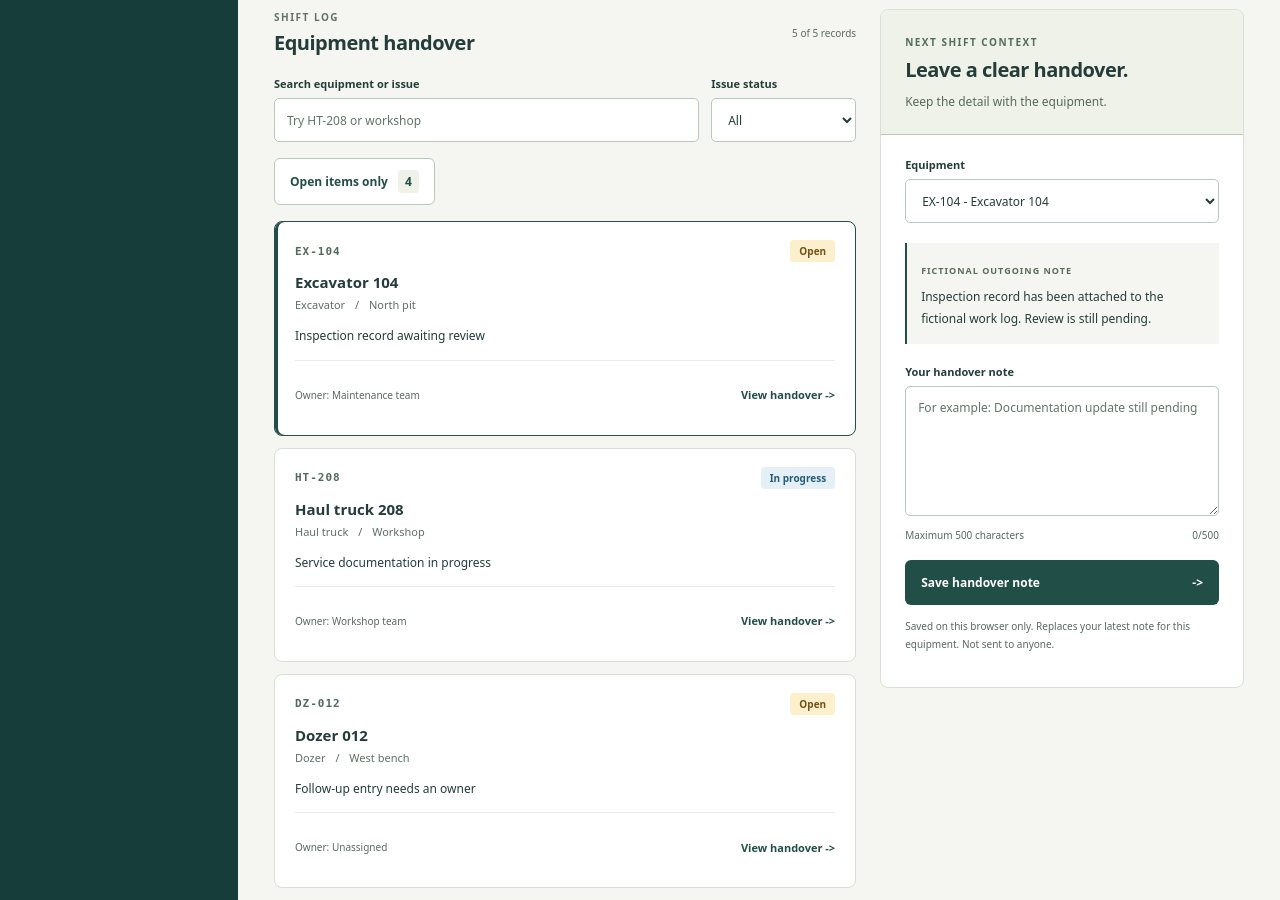
Test: handover notes › retains a draft and explicitly reports failed saves
(page scrolled)
Type "Keep my draft" into the text box labelled "Your handover note" at (1062, 451), box [905,386,1219,516]
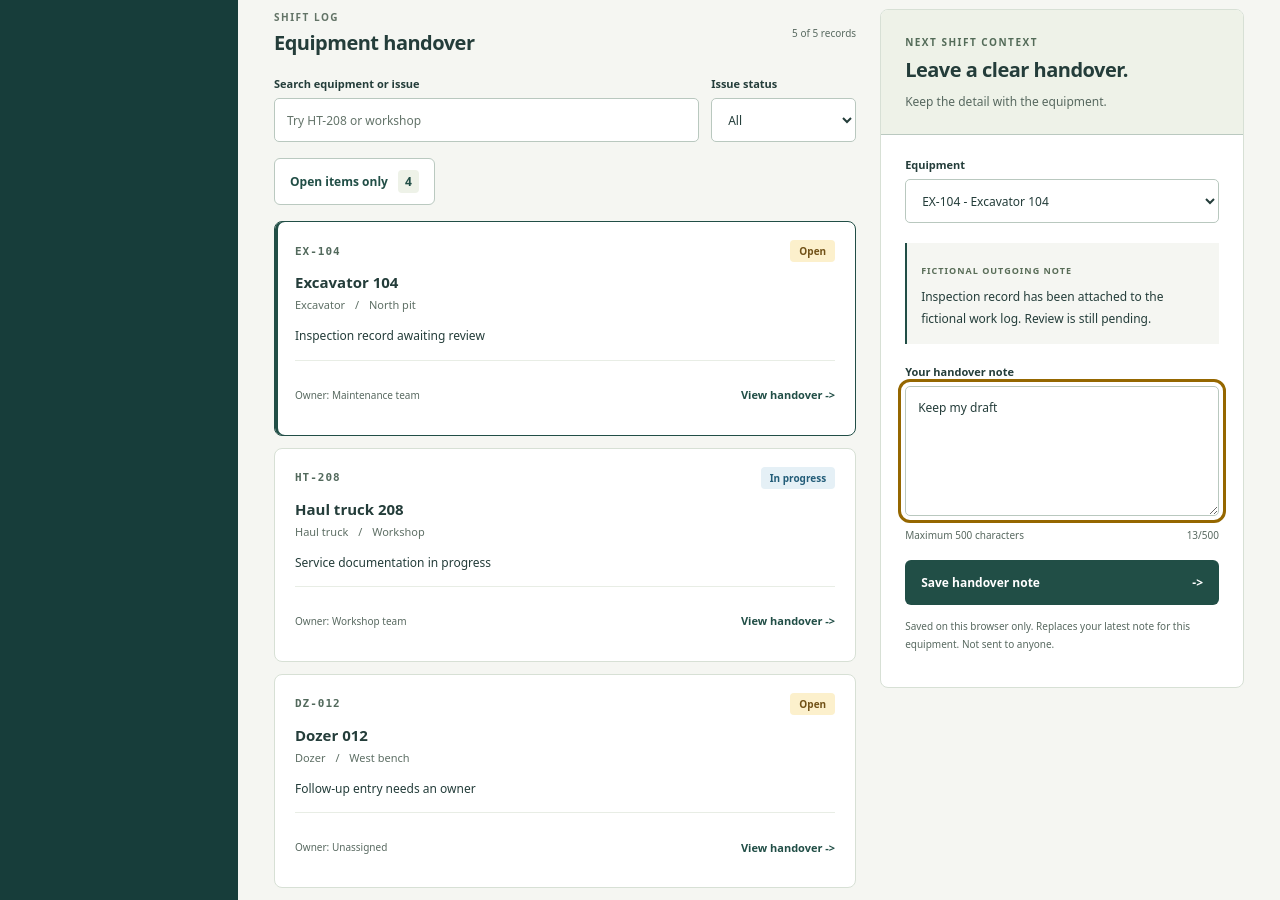
Click the button "Save handover note ->" at (981, 582), box [905,560,1219,605]
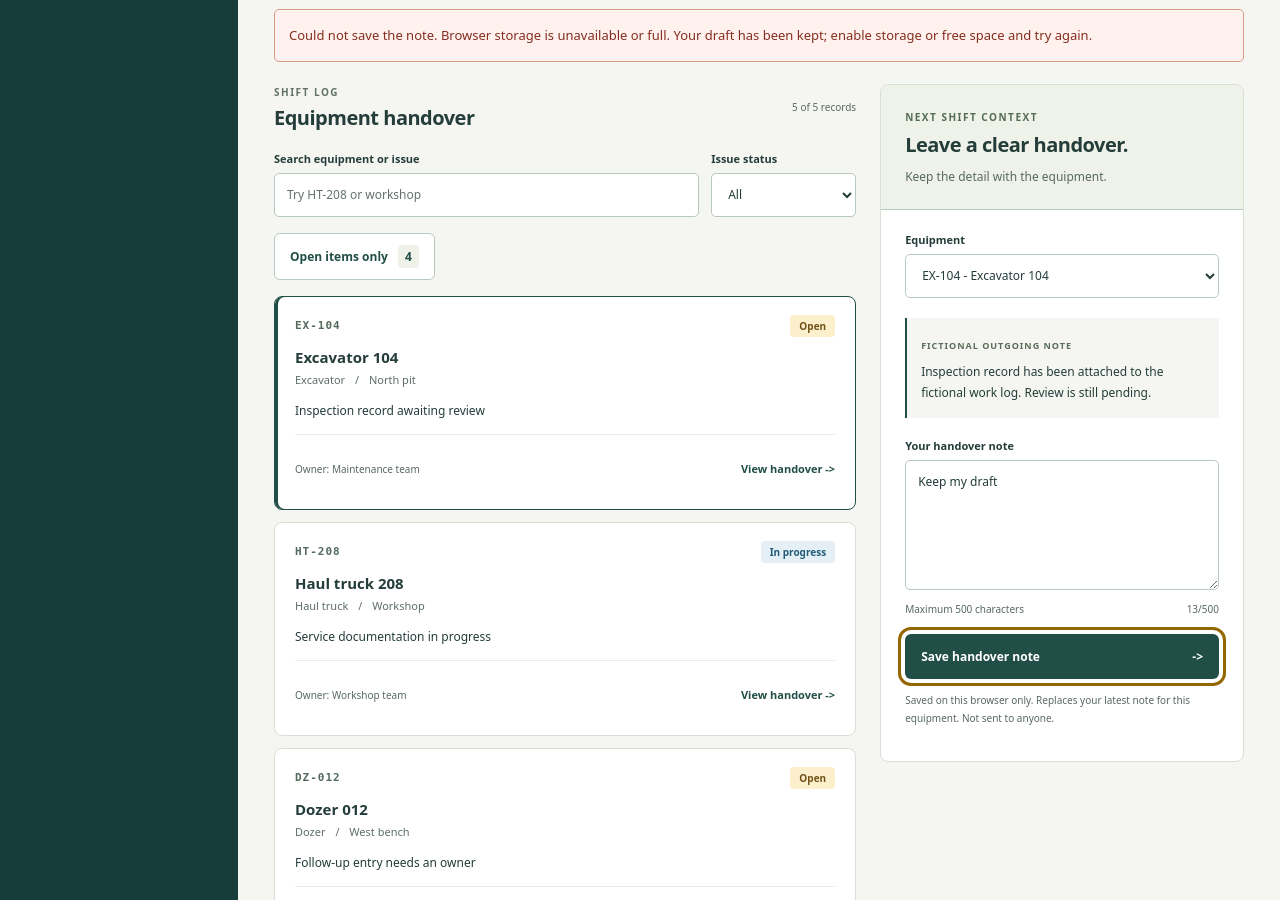
Expected: the message named "Note feedback" does not show "saved", [881,739,1243,761]
Expected: the 1st message shows "Could not save", [289,26,1092,44]
